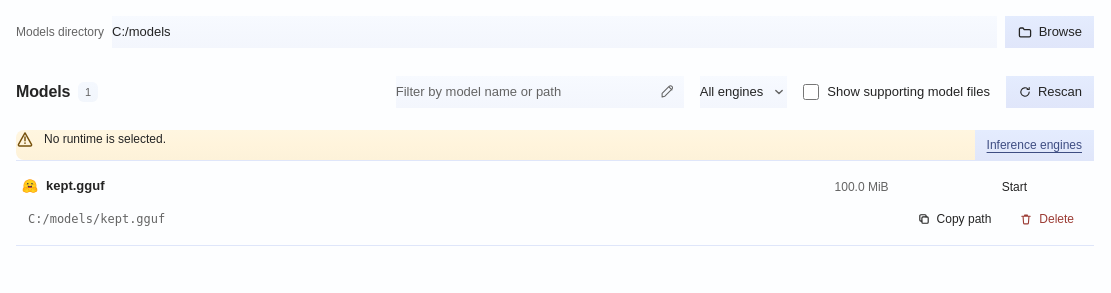
it: ModelsPanel CSS cascade › keeps loaded models visible after a rescan fails and replaces the toolbar action with Retry
Check: the text "kept.gguf" is shown, box [20, 176, 104, 196]
Click the button "Rescan": (1050, 92) [1006, 76, 1094, 108]
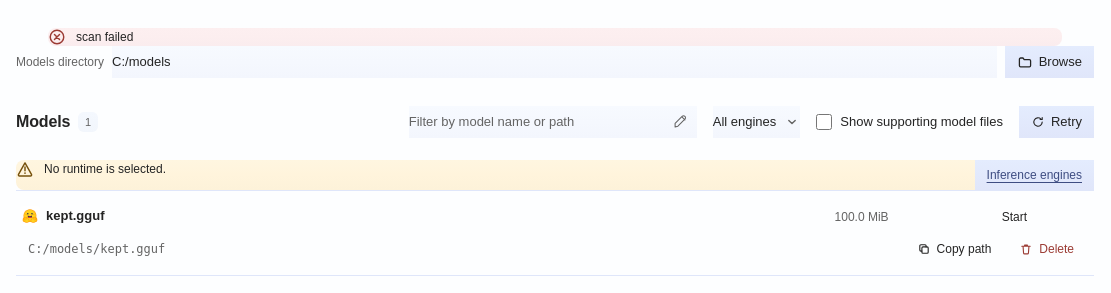
Check: the text "kept.gguf" is shown, box [20, 206, 104, 226]
Check: the button "Rescan" is gone
Click the button "Retry": (1056, 122) [1019, 106, 1094, 138]
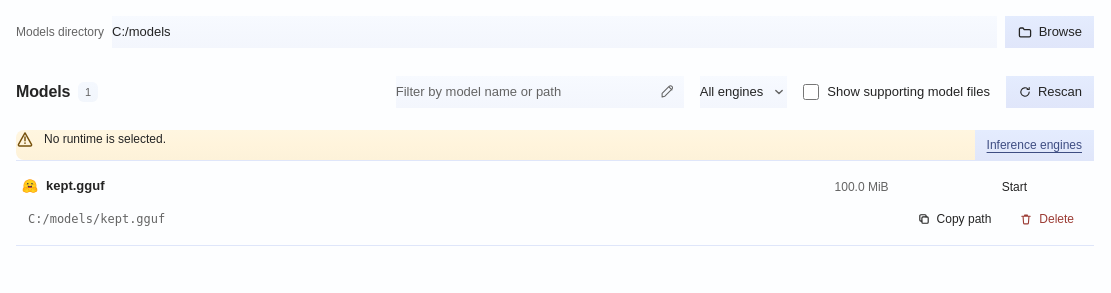
Check: the button "Rescan" is enabled, box [1006, 76, 1094, 108]
Check: the button "Retry" is gone
